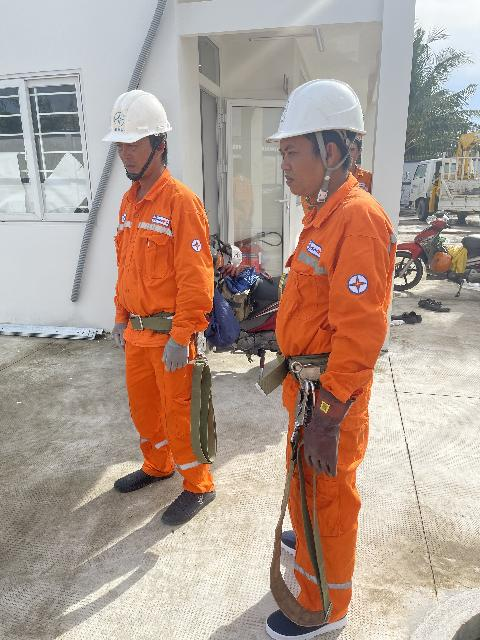gloves: (299, 376, 351, 478), (152, 332, 196, 379), (104, 316, 139, 357)
harness: (272, 340, 376, 392), (116, 306, 198, 341)
helmet: (90, 85, 184, 154), (285, 74, 365, 154)
shoes: (259, 584, 359, 640), (107, 458, 186, 498), (265, 519, 335, 563), (161, 479, 215, 530)
